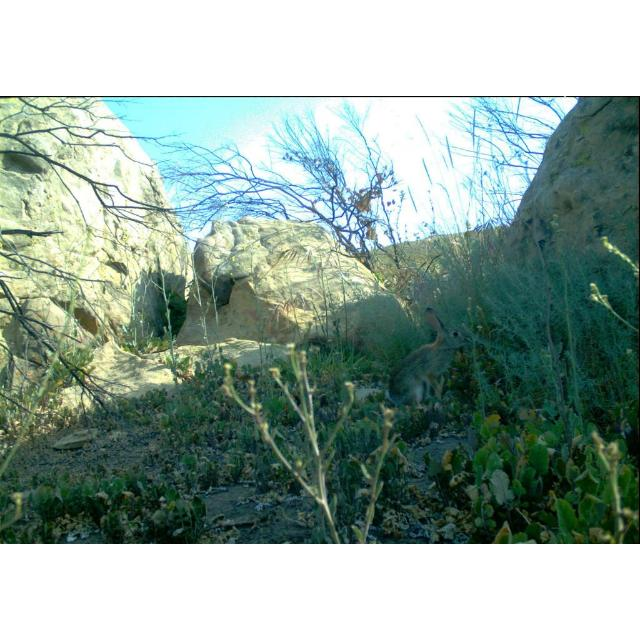animals: (384, 306, 470, 409)
